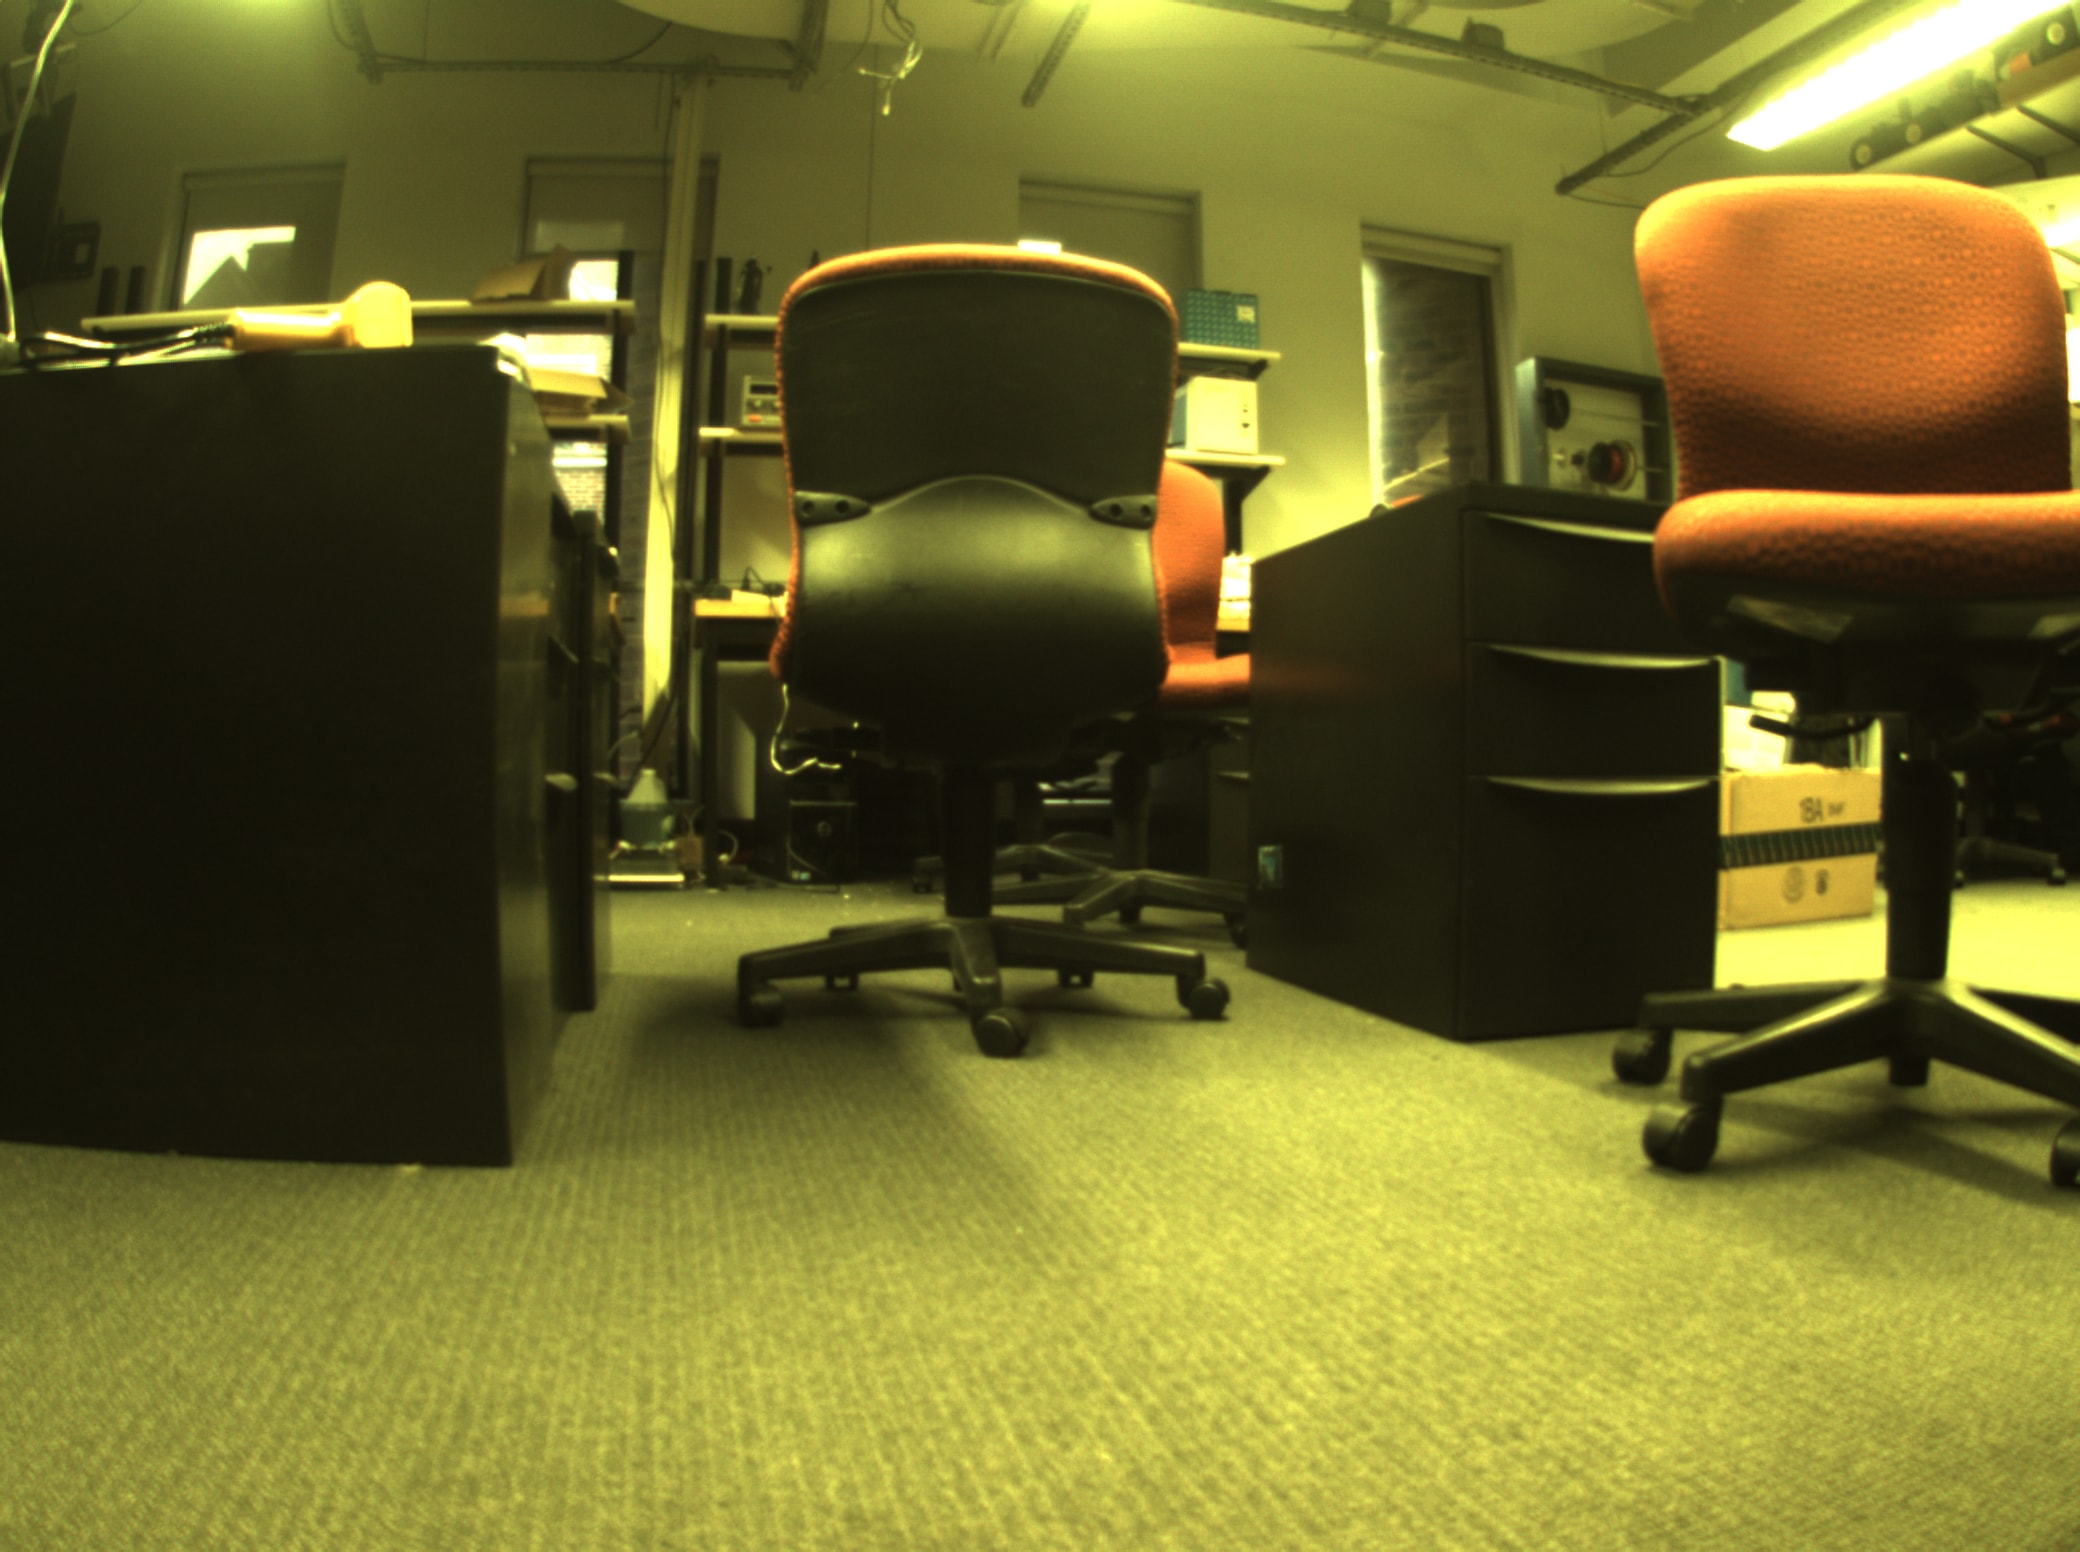chair: (1601, 127, 2080, 1215), (709, 220, 1241, 1061), (1012, 430, 1289, 954)
